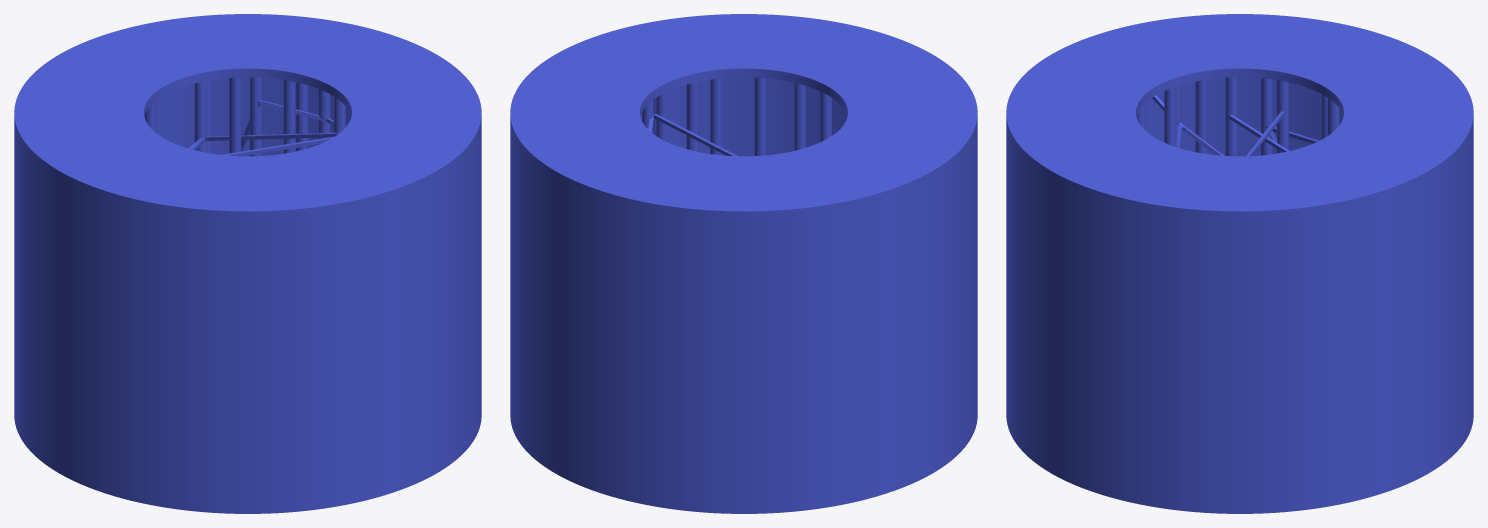
The model's file is BunkerFloor3.fbx.
The picture shows the model from 3 angles, left to right: view 1: azimuth 30°, elevation 25°; view 2: azimuth 150°, elevation 25°; view 3: azimuth 270°, elevation 25°; orthographic projection.
Visible parts, largest first — view 1: Bunker.011, Bunker.009, Vert; view 2: Bunker.011, Bunker.009, Vert; view 3: Bunker.011, Bunker.009, Vert.
Part boxes in pixels (<box>): Bunker.011: <box>14,14,481,513</box>; Bunker.009: <box>144,77,345,156</box>; Vert: <box>188,100,340,156</box>; Bunker.011: <box>510,14,977,513</box>; Bunker.009: <box>642,77,831,155</box>; Vert: <box>648,114,737,156</box>; Bunker.011: <box>1006,14,1473,513</box>; Bunker.009: <box>1136,77,1339,156</box>; Vert: <box>1152,95,1318,156</box>.
Size of the model in its own units: 22.62 by 16.18 by 22.62.
